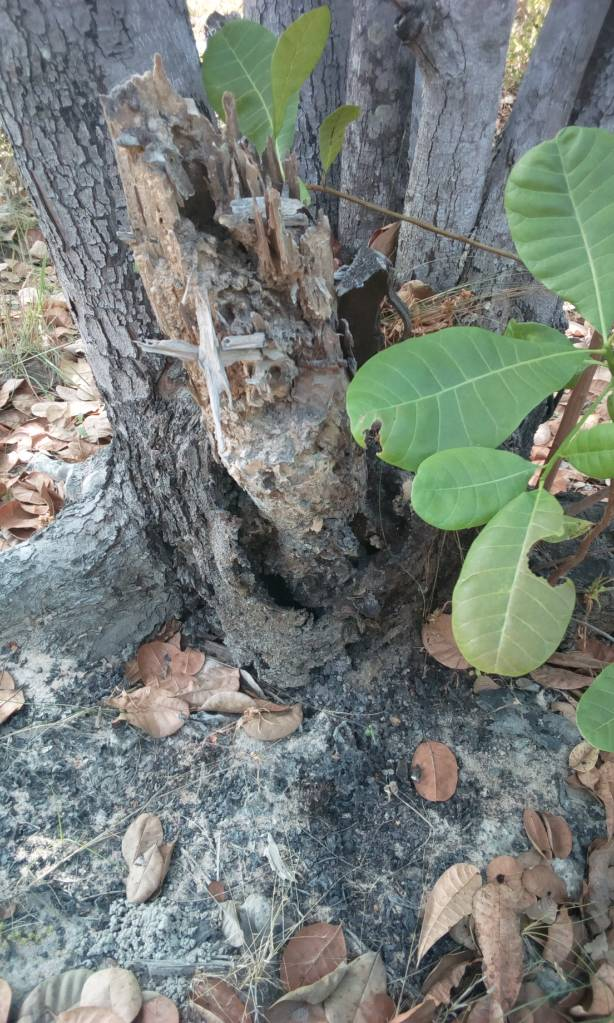Termites: (106, 57, 381, 538)
